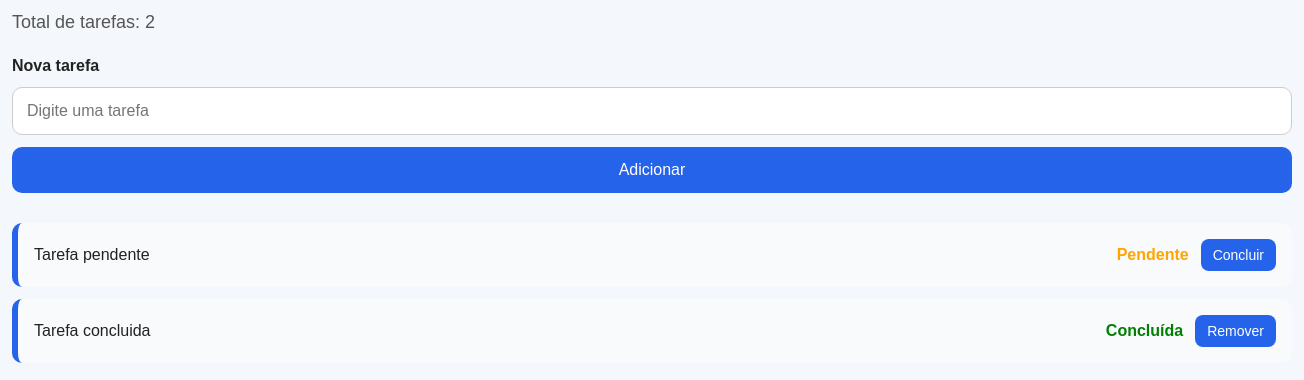
PainelTarefas › deve remover uma tarefa concluida
The image size is (1304, 380).
Check: the list item "Tarefa concluida" is shown, box [34,322,150,339]
What coordinates should you click on to do the following:
click the button "Remover"
I would click on:
 (1236, 331)
Its box is [1195,315,1276,347].
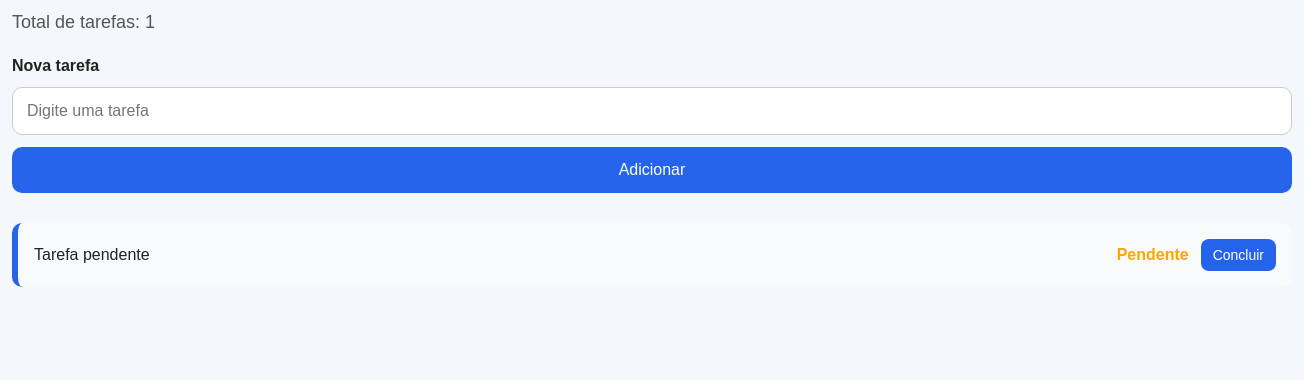
Check: the text "Tarefa concluida" is gone
Check: the text "Total de tarefas: 1" is shown, box [12,12,155,32]
